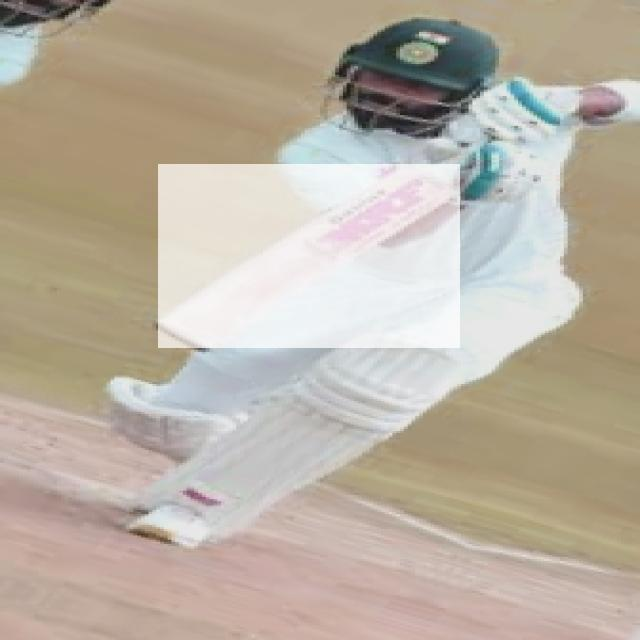bat: (157, 163, 461, 350)
toe: (151, 316, 208, 354)
